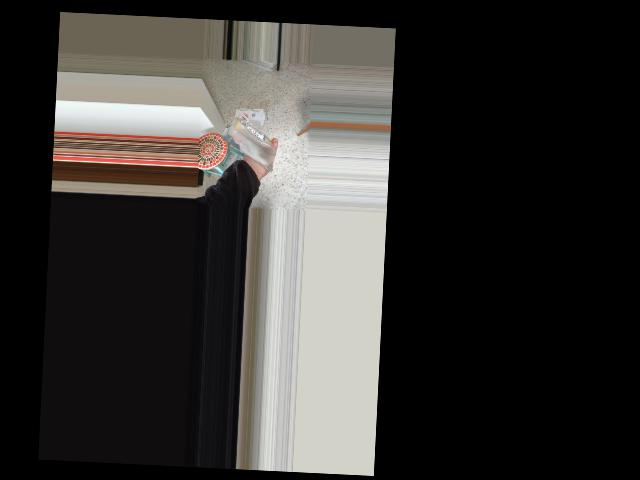cheese: (204, 100, 283, 176)
